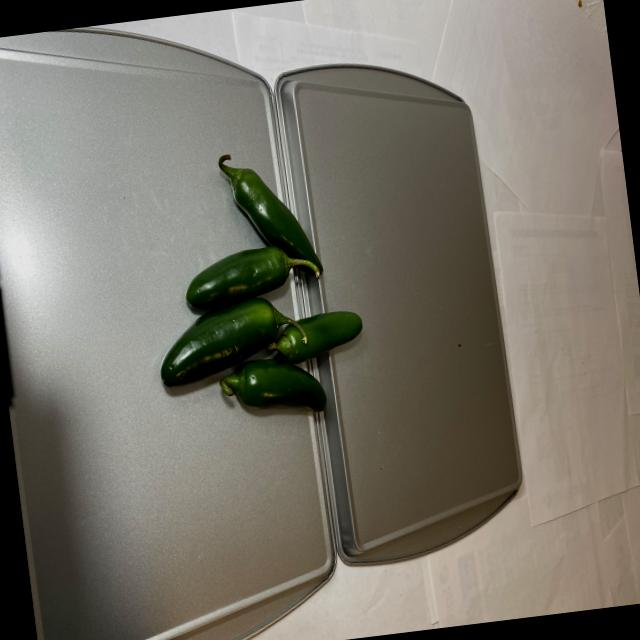chilli: (136, 141, 378, 442)
